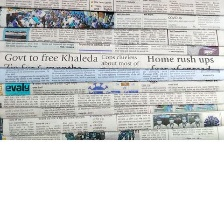news_paper: (0, 0, 224, 140)
